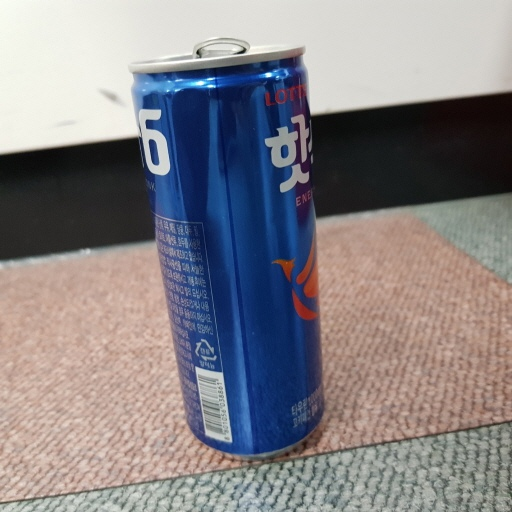Metal_0: (127, 33, 332, 459)
